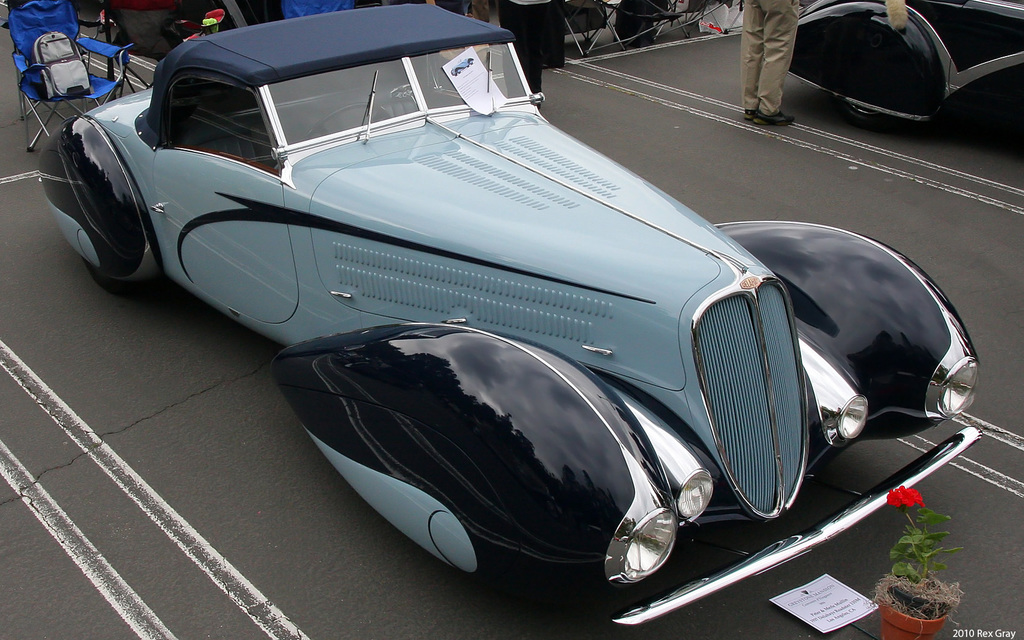mobil: (51, 34, 963, 541)
